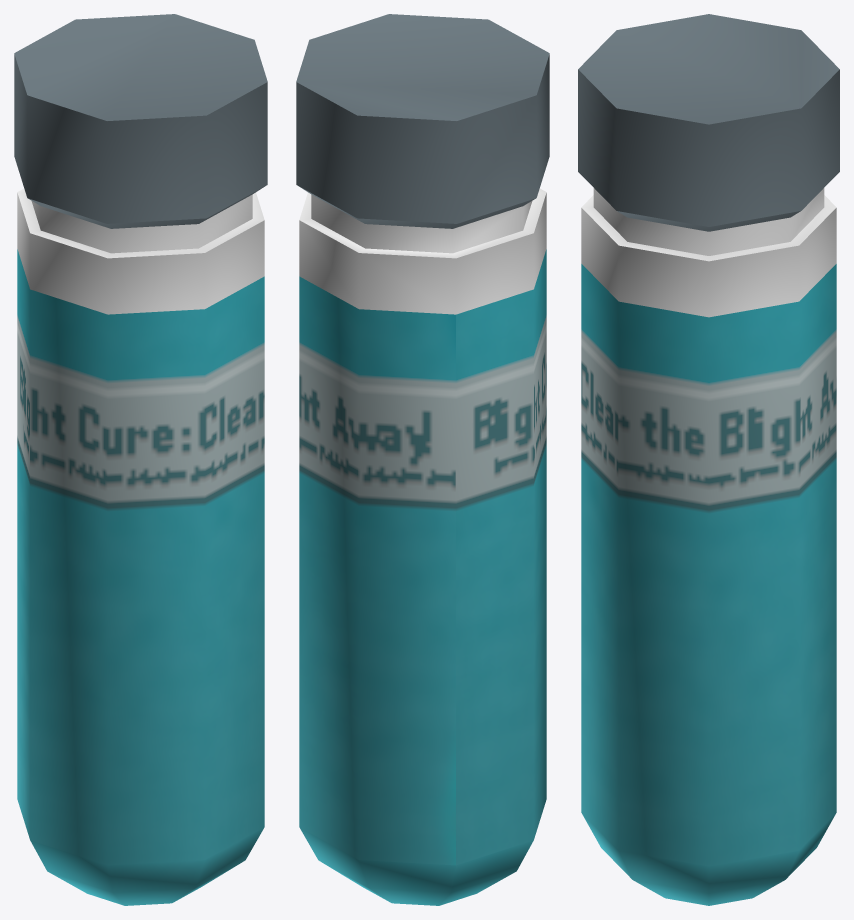
Rendered from Cure.fbx.
3 views of the same model, side by side, from view 1: azimuth 30°, elevation 25°; view 2: azimuth 150°, elevation 25°; view 3: azimuth 270°, elevation 25° (orthographic).
Visible parts, largest first — view 1: Cylinder.001, Cylinder; view 2: Cylinder.001, Cylinder; view 3: Cylinder.001, Cylinder.
Boxes of the visible parts, box(x1,y1,x2,y2) form: Cylinder.001: box(14, 14, 267, 905); Cylinder: box(17, 188, 264, 314); Cylinder.001: box(296, 14, 549, 905); Cylinder: box(299, 188, 546, 314); Cylinder.001: box(578, 14, 839, 905); Cylinder: box(581, 188, 836, 317).
Size of the model in its own units: 49.87 by 170 by 49.87.
